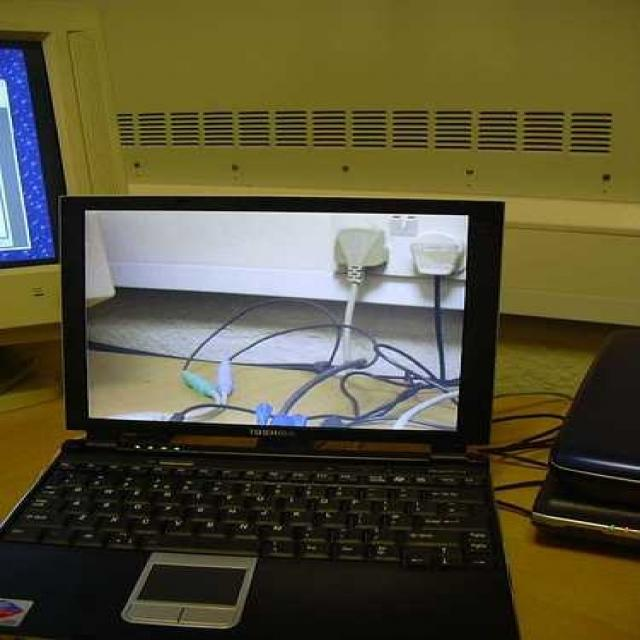laptop: (20, 184, 558, 640)
